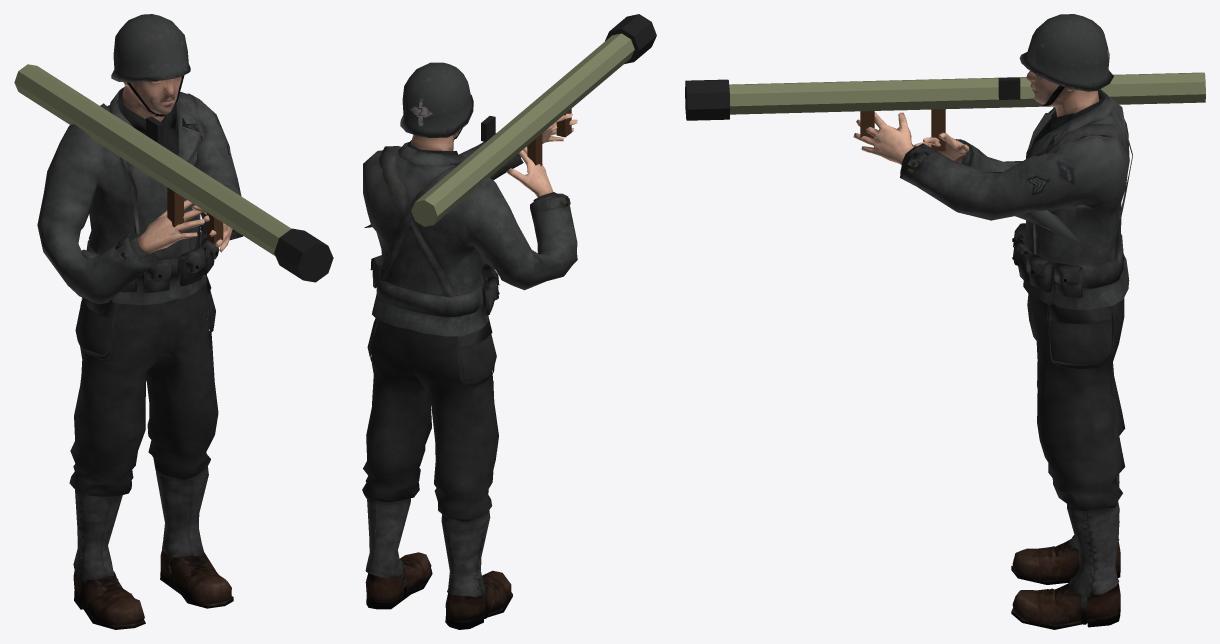
Rendered from soldado_bazuca_eixo.glb.
The picture shows the model from 3 angles, left to right: view 1: azimuth 30°, elevation 25°; view 2: azimuth 150°, elevation 25°; view 3: azimuth 270°, elevation 25°; orthographic projection. The views are drawn at different scales.
Parts seen in each view (by area): view 1: Soldado; view 2: Soldado; view 3: Soldado.
Part boxes in pixels (<box>): Soldado: <box>14,14,333,629</box>; Soldado: <box>362,14,656,629</box>; Soldado: <box>685,14,1205,629</box>.
Bounding box in the file's own units: 0.6085 × 1.8 × 1.46.
Materials: 1 (1 with a texture image).
